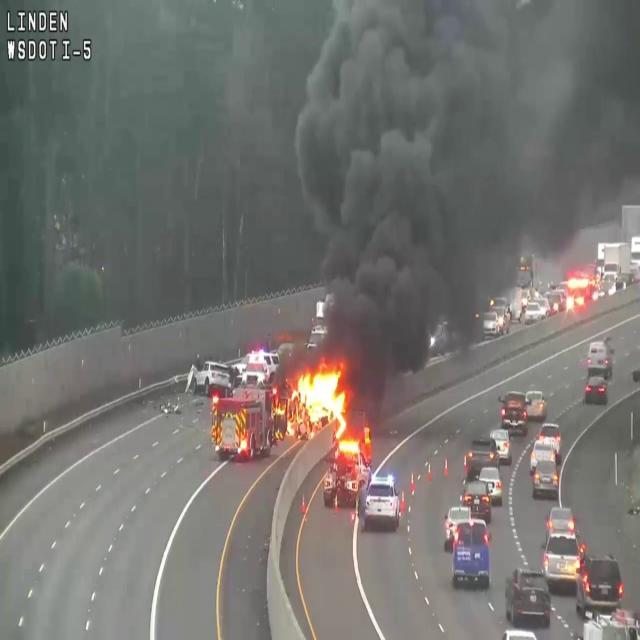Fire: (278, 357, 348, 432)
Smoke: (291, 1, 640, 327)
